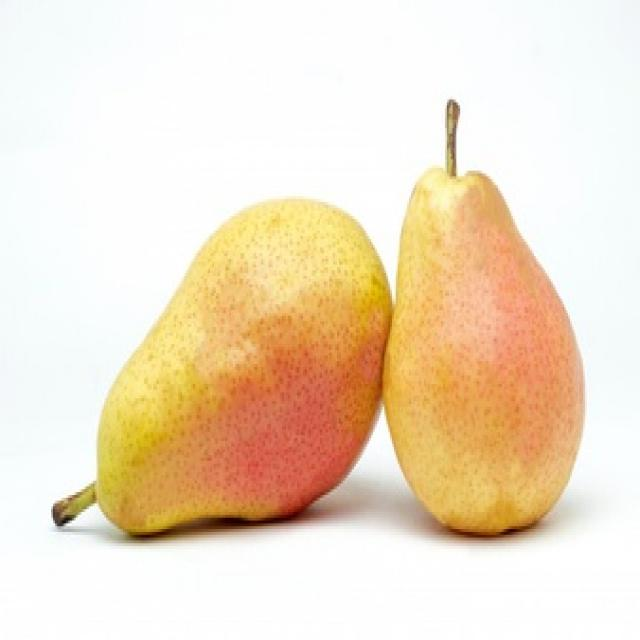pear: (78, 202, 388, 538), (384, 128, 585, 535)
